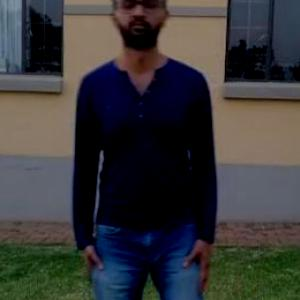follow: (48, 0, 168, 299)
